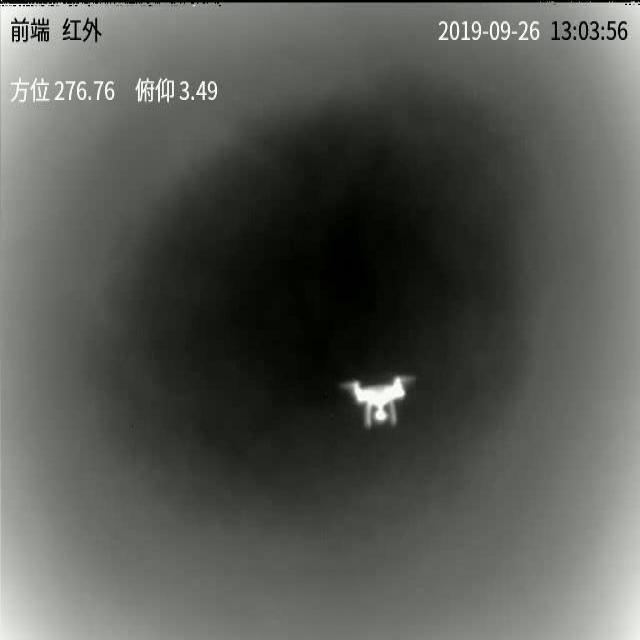drone: (344, 378, 421, 428)
